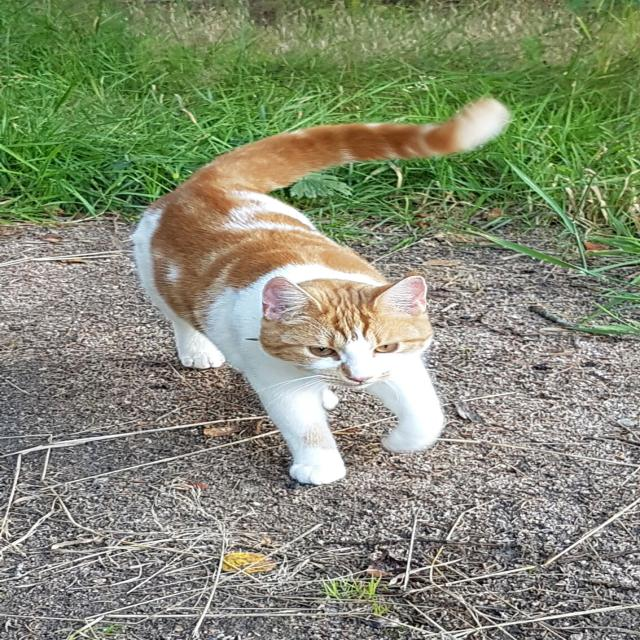sarman: (132, 99, 509, 485)
